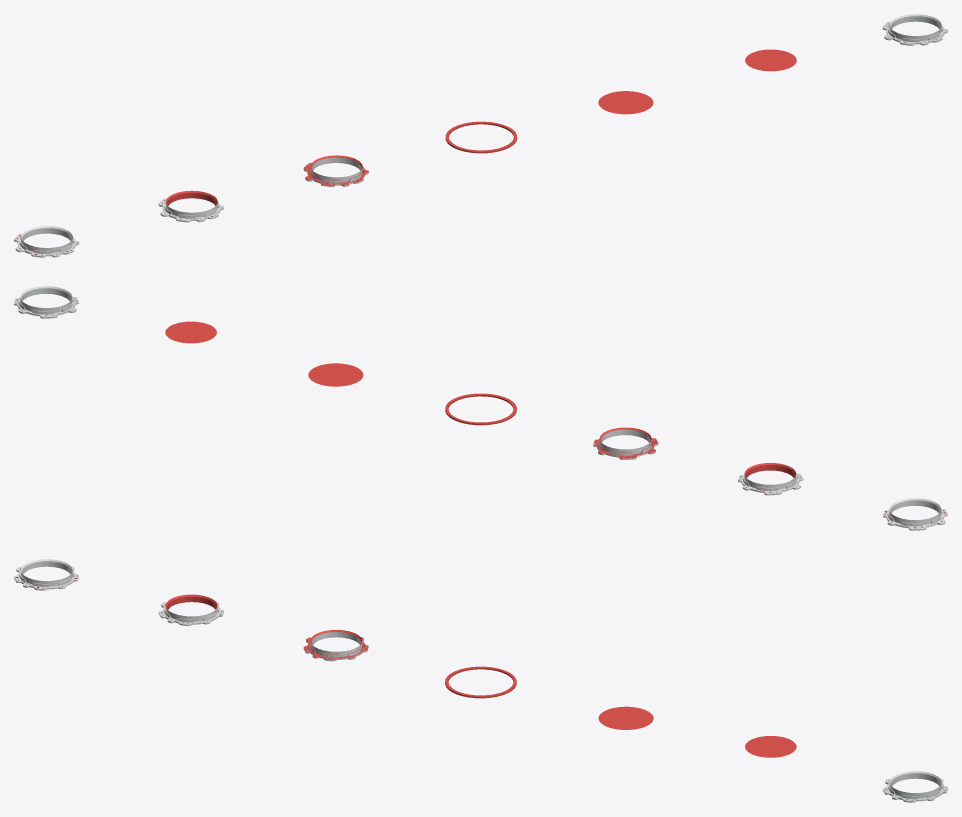
The model's file is Seal Plate Gerigi.fbx.
The picture shows the model from 3 angles, top to bottom: view 1: azimuth 30°, elevation 25°; view 2: azimuth 150°, elevation 25°; view 3: azimuth 330°, elevation 25°; orthographic projection.
Visible parts, largest first — view 1: F, G, D, Cylinder, B, A, CE; view 2: D, F, Cylinder, G, B, A, CE; view 3: F, D, G, Cylinder, B, A, CE.
Boxes of the visible parts, x1=… form: F: x1=158, y1=190, x2=223, y2=222; G: x1=14, y1=226, x2=79, y2=257; D: x1=303, y1=155, x2=368, y2=187; Cylinder: x1=882, y1=14, x2=947, y2=45; B: x1=598, y1=91, x2=653, y2=114; A: x1=745, y1=49, x2=796, y2=71; CE: x1=445, y1=121, x2=517, y2=153; D: x1=593, y1=427, x2=658, y2=459; F: x1=738, y1=463, x2=803, y2=495; Cylinder: x1=14, y1=286, x2=78, y2=318; G: x1=883, y1=498, x2=947, y2=530; B: x1=308, y1=363, x2=363, y2=386; A: x1=165, y1=321, x2=216, y2=343; CE: x1=445, y1=393, x2=516, y2=425; F: x1=158, y1=594, x2=223, y2=625; D: x1=303, y1=630, x2=368, y2=661; G: x1=14, y1=559, x2=78, y2=590; Cylinder: x1=883, y1=771, x2=947, y2=802; B: x1=598, y1=706, x2=653, y2=729; A: x1=745, y1=736, x2=796, y2=757; CE: x1=445, y1=666, x2=516, y2=698.
Size of the model in its own units: 639 by 4.66 by 42.92.
